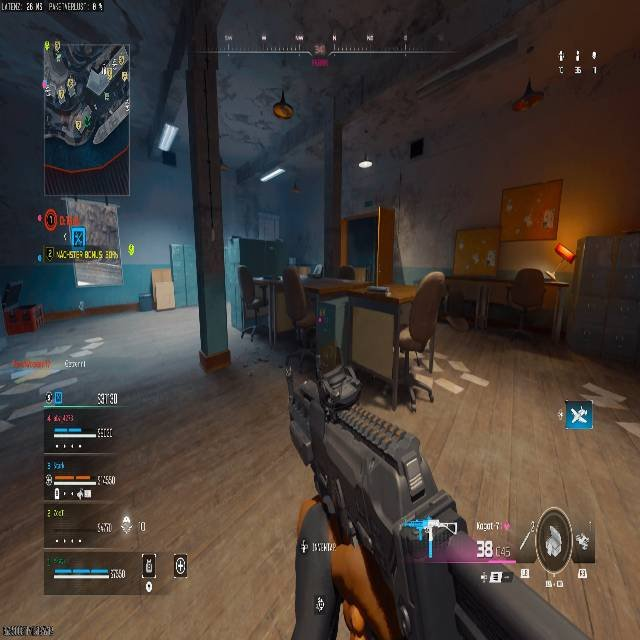player: (388, 325, 424, 409)
